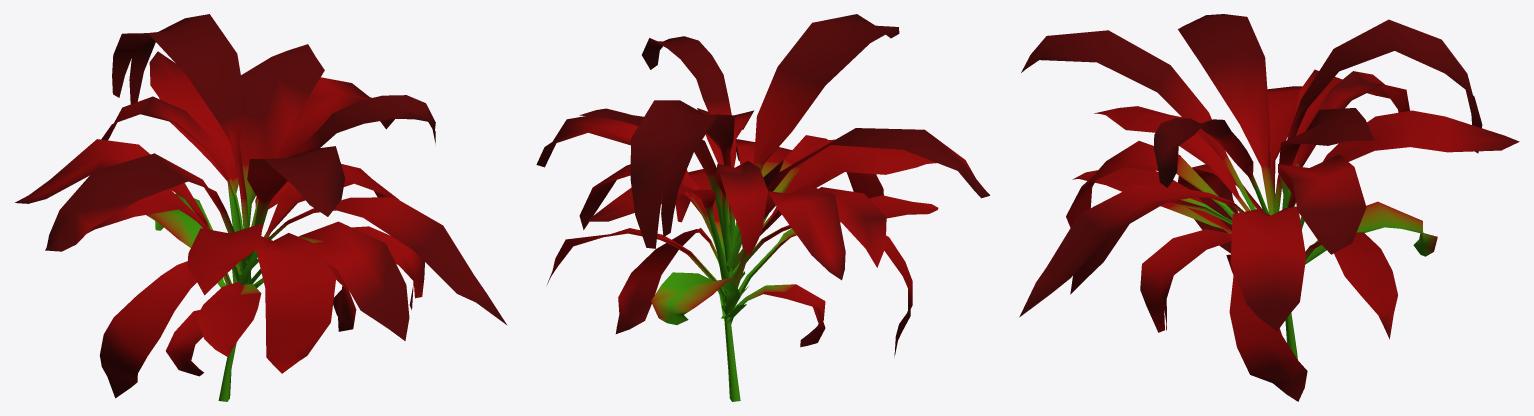
Rendered from Var6_LOD1.fbx.
The picture shows the model from 3 angles, left to right: view 1: azimuth 30°, elevation 25°; view 2: azimuth 150°, elevation 25°; view 3: azimuth 270°, elevation 25°; orthographic projection. The views are drawn at different scales.
Visible parts, largest first — view 1: _3c4b_Var6_LOD1; view 2: _3c4b_Var6_LOD1; view 3: _3c4b_Var6_LOD1.
Boxes of the visible parts, x1,y1,x2,y2 form: _3c4b_Var6_LOD1: (15,14,507,401); _3c4b_Var6_LOD1: (536,14,989,401); _3c4b_Var6_LOD1: (1019,14,1519,401).
Size of the model in its own units: 30.14 by 24.14 by 31.44.
